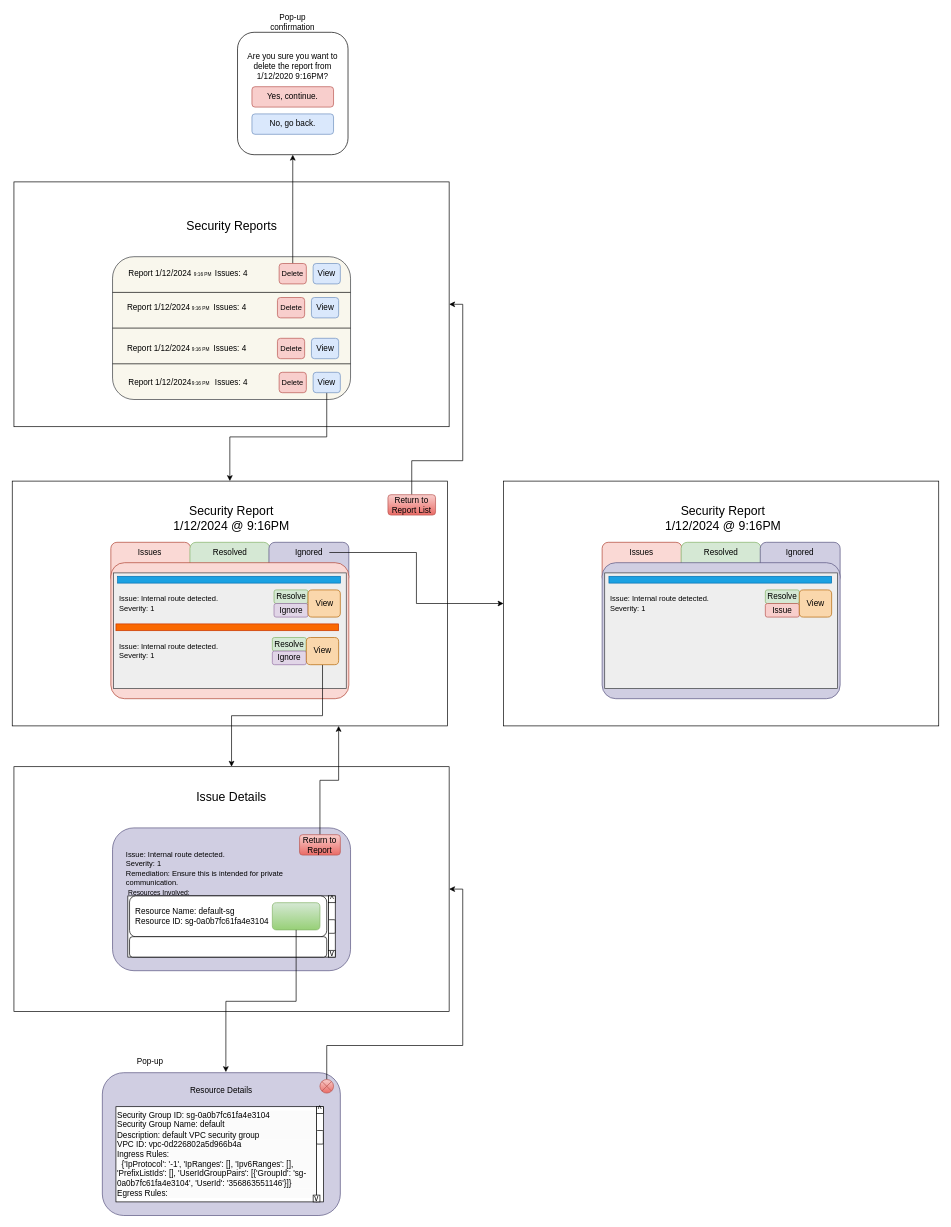
This 951x1227 diagram has some shape labels left out. Here are the shapes that lost their labels. From the top down, the centre of each, then its label:
At (296,916): "Details".
At (228,946): "<Next Resource>".
